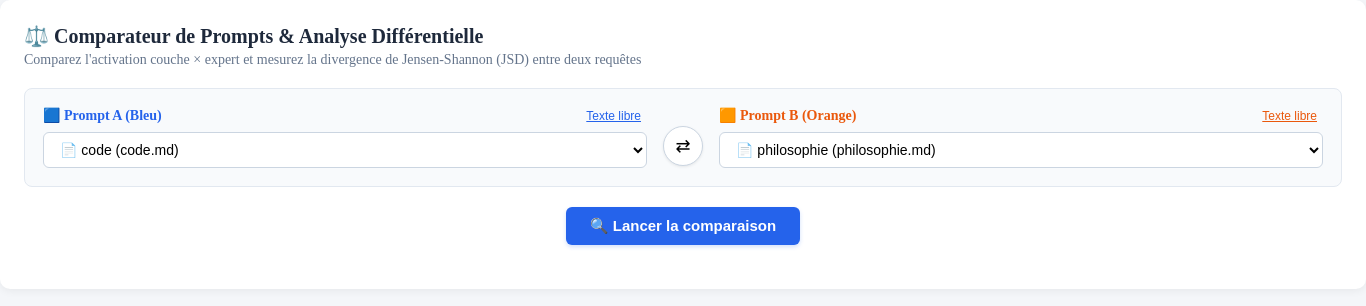
PromptComparator Component › swaps prompt A and prompt B when swap button is clicked
Expected: the dropdown with test id "select-prompt-a" shows "📄 code (code.md)", x1=43 y1=132 x2=647 y2=168
Expected: the dropdown with test id "select-prompt-b" shows "📄 philosophie (philosophie.md)", x1=719 y1=132 x2=1323 y2=168
Click the button with test id "swap-prompts-btn".
click(683, 146)  # box x1=663 y1=126 x2=703 y2=166
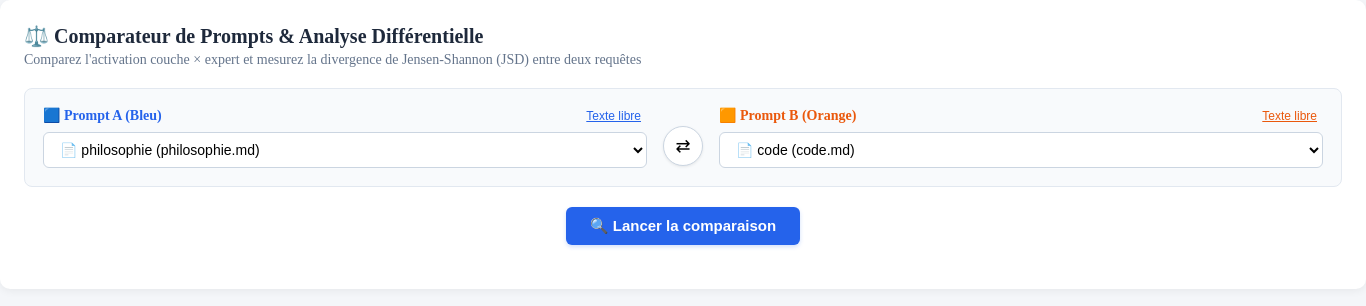
Now the dropdown with test id "select-prompt-a" shows "📄 philosophie (philosophie.md)", box x1=43 y1=132 x2=647 y2=168
Now the dropdown with test id "select-prompt-b" shows "📄 code (code.md)", box x1=719 y1=132 x2=1323 y2=168
